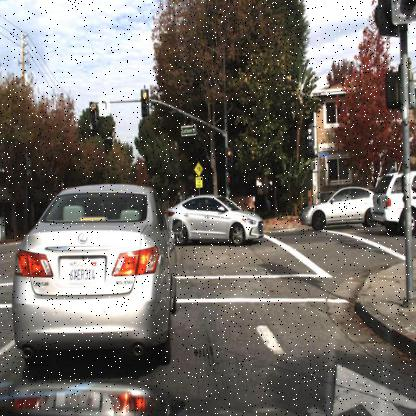car: (7, 186, 180, 365), (164, 189, 266, 249), (298, 185, 380, 234), (372, 167, 416, 237)
trafficLight-Red: (140, 87, 150, 122), (224, 148, 234, 174)
trafficLight-RedLeft: (88, 103, 98, 136)
